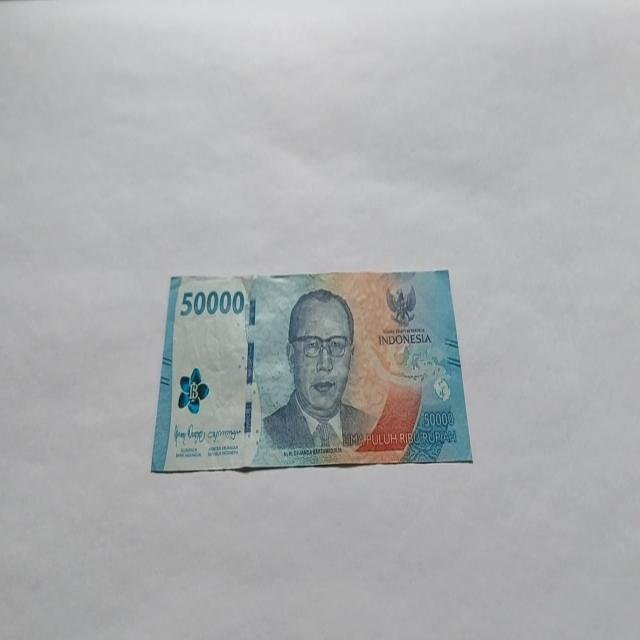lima puluh ribu rupiah: (150, 267, 473, 473), (259, 286, 379, 455)
